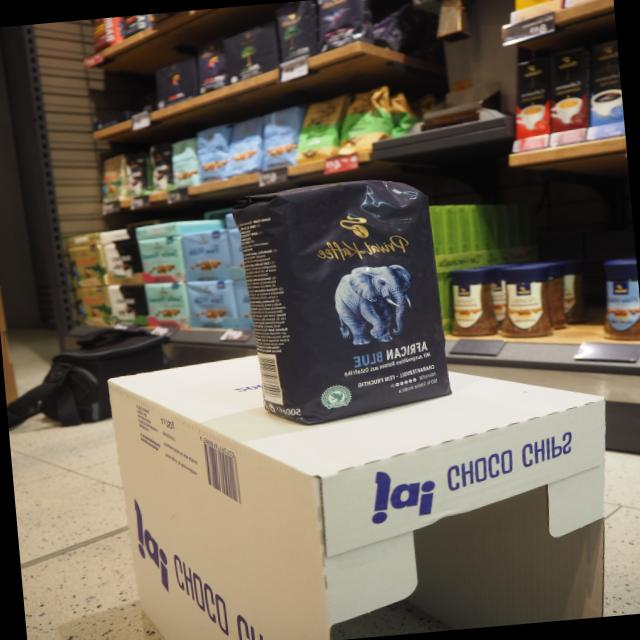AB Bohne: (225, 165, 459, 439)
